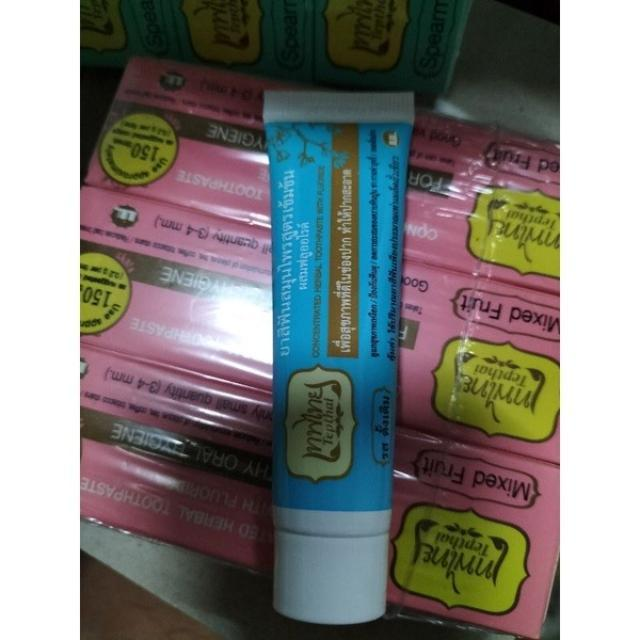Squeeze Tube: (222, 97, 427, 640)
